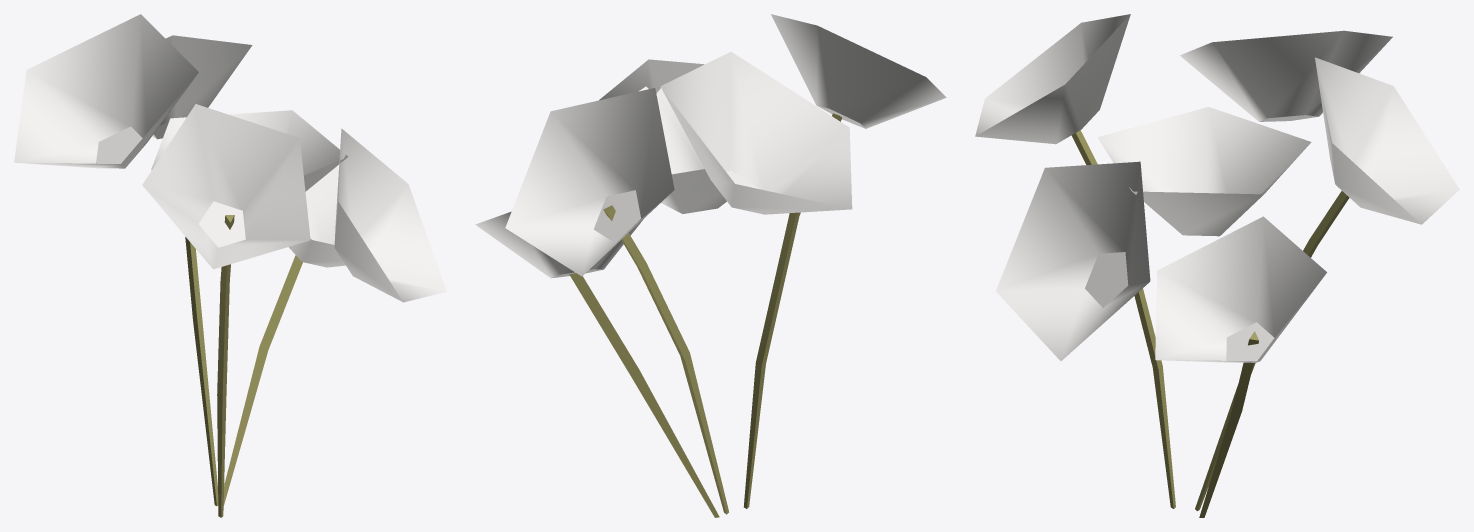
The model's file is SM_flowers_white.fbx.
3 renders of one model, left to right at view 1: azimuth 30°, elevation 25°; view 2: azimuth 150°, elevation 25°; view 3: azimuth 270°, elevation 25°, orthographic. The views are drawn at different scales.
Parts seen in each view (by area): view 1: Cylinder013; view 2: Cylinder013; view 3: Cylinder013.
Part boxes in pixels (left/top/right/bottom): Cylinder013: left=14, top=14, right=446, bottom=517; Cylinder013: left=475, top=14, right=946, bottom=517; Cylinder013: left=975, top=14, right=1459, bottom=517.
Size of the model in its own units: 10.23 by 11.11 by 12.13.
